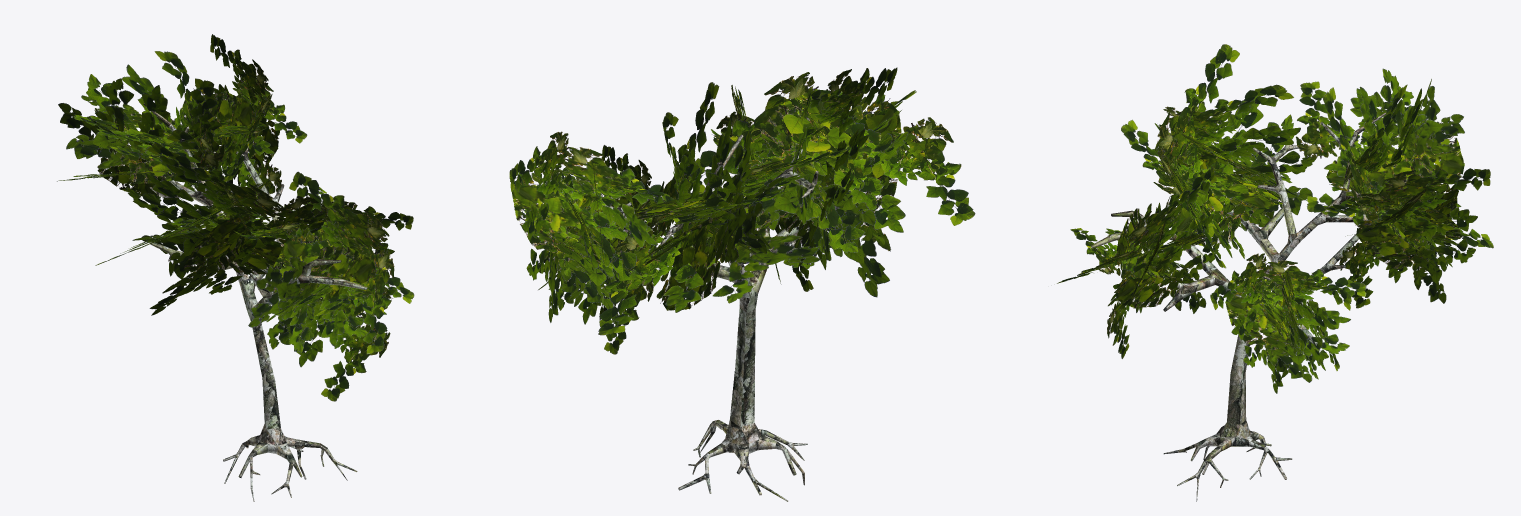
Rendered from Tree-green.fbx.
The picture shows the model from 3 angles, left to right: view 1: azimuth 30°, elevation 25°; view 2: azimuth 150°, elevation 25°; view 3: azimuth 270°, elevation 25°; orthographic projection. The views are drawn at different scales.
Parts seen in each view (by area): view 1: Plane.008, Tree, Plane, Plane.024, Plane.022, Plane.004, Plane.009, Plane.005, Plane.006, Plane.013, Plane.002, Plane.010 (+8 smaller); view 2: Plane.001, Plane.014, Tree, Plane.024, Plane.020, Plane.004, Plane.012, Plane.010, Plane, Plane.023, Plane.022, Plane.003 (+5 smaller); view 3: Tree, Plane, Plane.010, Plane.005, Plane.023, Plane.002, Plane.029, Plane.024, Plane.003, Plane.021, Plane.025, Plane.027 (+13 smaller).
Boxes of the visible parts, x1,y1,x2,y2 form: Plane.008: (256,246,390,401); Tree: (143,103,367,501); Plane: (126,143,290,274); Plane.024: (58,78,224,197); Plane.022: (66,51,213,183); Plane.004: (149,196,326,315); Plane.009: (248,222,394,354); Plane.005: (269,171,395,334); Plane.006: (273,225,414,351); Plane.013: (170,92,281,220); Plane.002: (150,129,252,278); Plane.010: (210,34,279,191); Plane.001: (746,89,975,252); Plane.014: (512,147,664,309); Tree: (548,134,850,501); Plane.024: (650,82,762,310); Plane.020: (598,193,820,335); Plane.004: (688,72,903,297); Plane.012: (549,176,680,300); Plane.010: (509,131,588,322); Plane: (782,67,897,266); Plane.023: (635,148,847,224); Plane.022: (662,112,770,254); Plane.003: (731,90,916,228); Tree: (1091,112,1427,501); Plane: (1154,44,1312,246); Plane.010: (1355,168,1490,303); Plane.005: (1113,167,1219,313); Plane.023: (1296,81,1464,191); Plane.002: (1154,84,1317,219); Plane.029: (1225,260,1366,382); Plane.024: (1323,68,1440,219); Plane.003: (1121,117,1287,211); Plane.021: (1307,91,1464,225); Plane.025: (1210,253,1284,393); Plane.027: (1266,278,1351,377).
Size of the model in its own units: 643 by 694 by 747.
